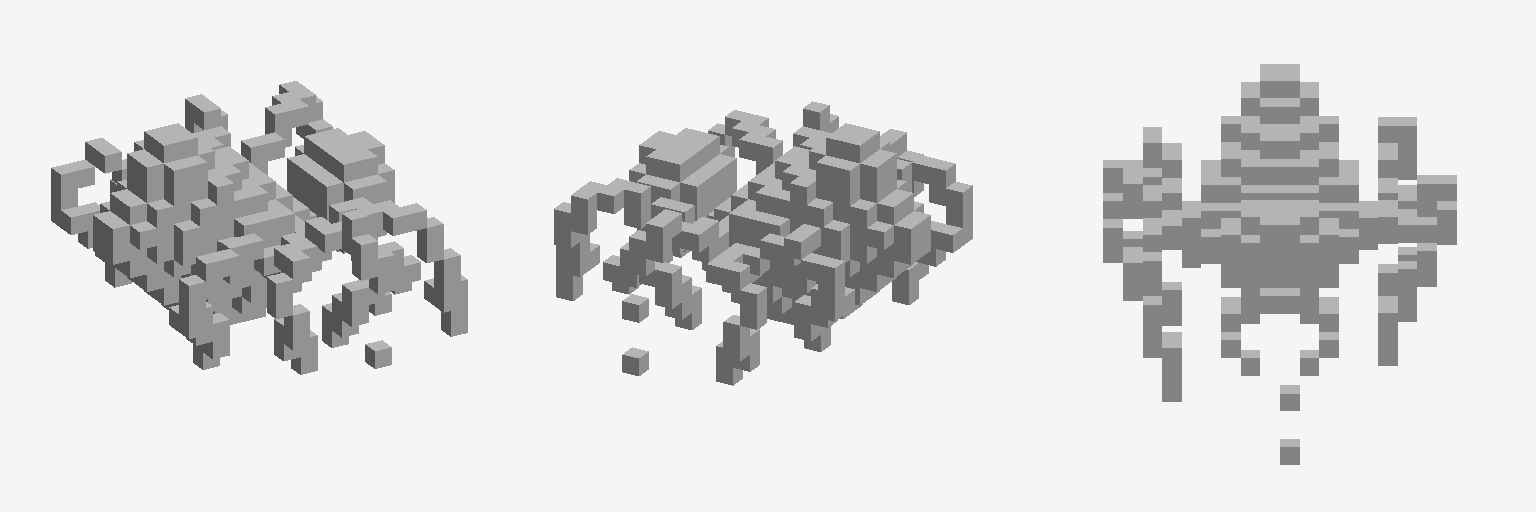
The model's file is Walking 3.obj.
The picture shows the model from 3 angles: view 1: azimuth 30°, elevation 25°; view 2: azimuth 150°, elevation 25°; view 3: azimuth 270°, elevation 25°; orthographic projection.
Bounding box in the file's own units: 18 × 16 × 18.